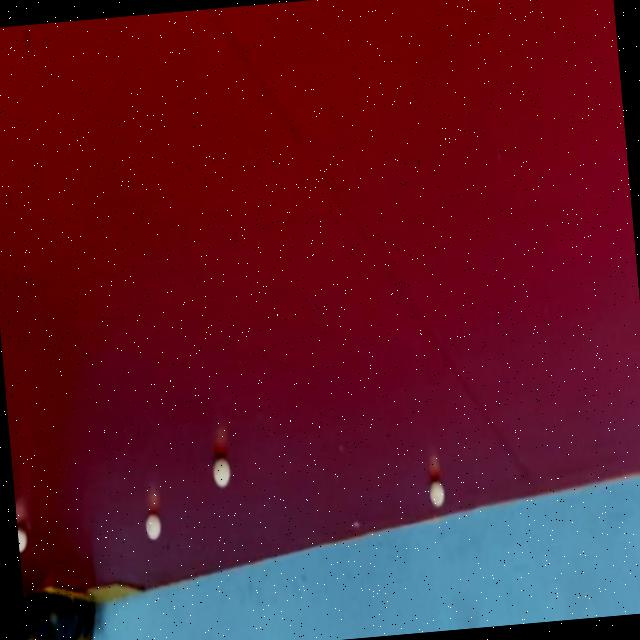ping-pong-ball: (208, 454, 232, 491), (425, 476, 447, 510), (142, 511, 164, 543), (16, 524, 32, 554)
